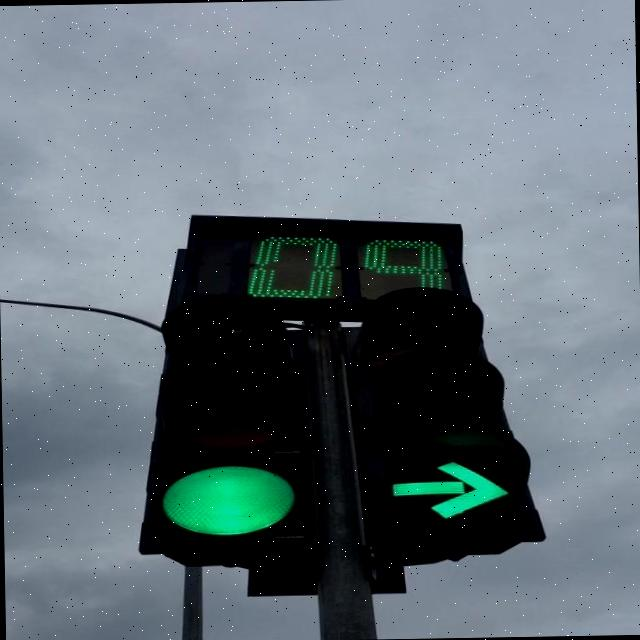green_light: (336, 285, 546, 551), (132, 292, 310, 552)
